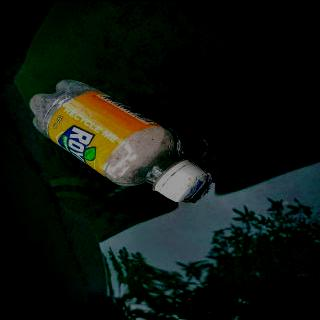bottle: (27, 78, 215, 204)
